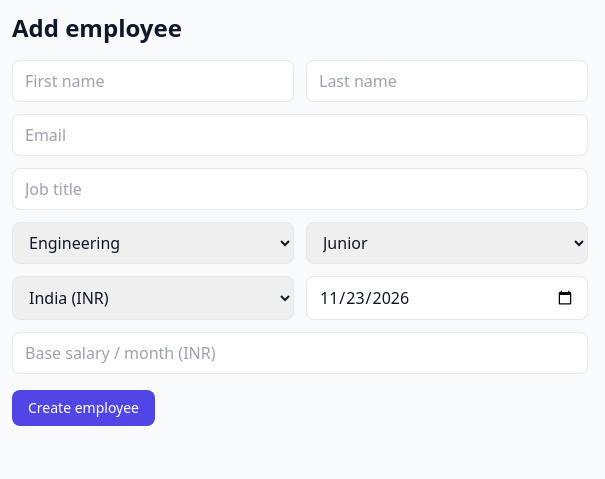
Test: AddEmployee page › requires a whole positive salary
The image size is (605, 479).
Type "Asha" into the field labelled "First name" at (153, 81), box [12,60,294,102]
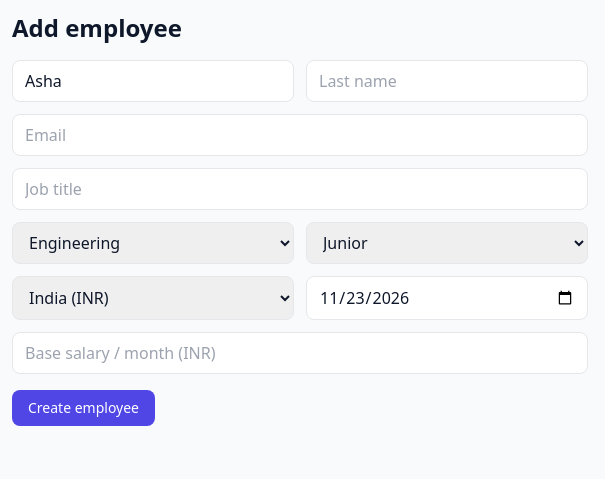
Type "Verma" into the field labelled "Last name" at (447, 81), box [306,60,588,102]
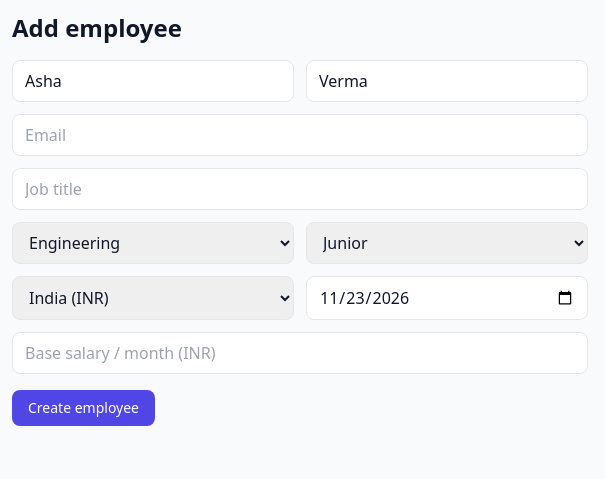
Type "asha@acme.example" into the field labelled "Email" at (300, 135), box [12,114,588,156]
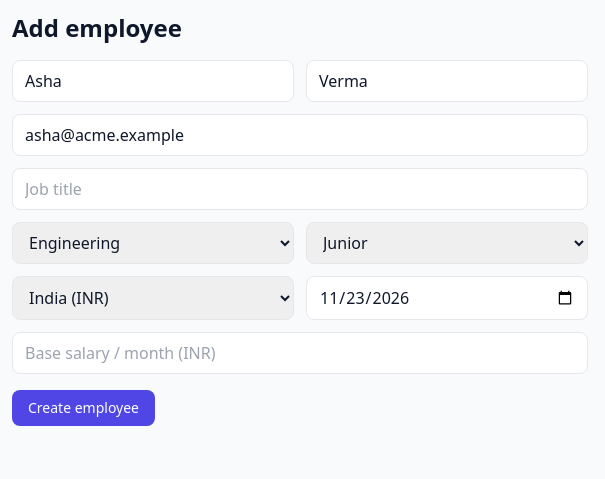
Type "Engineer" into the field labelled "Job title" at (300, 189), box [12,168,588,210]
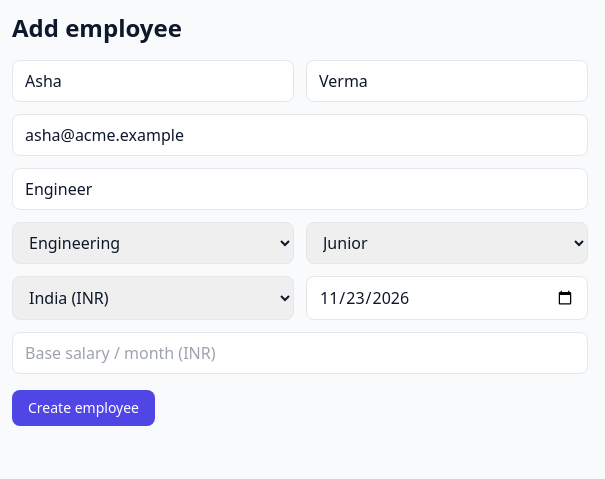
Type "0" into the number field labelled "Base salary" at (300, 353), box [12,332,588,374]
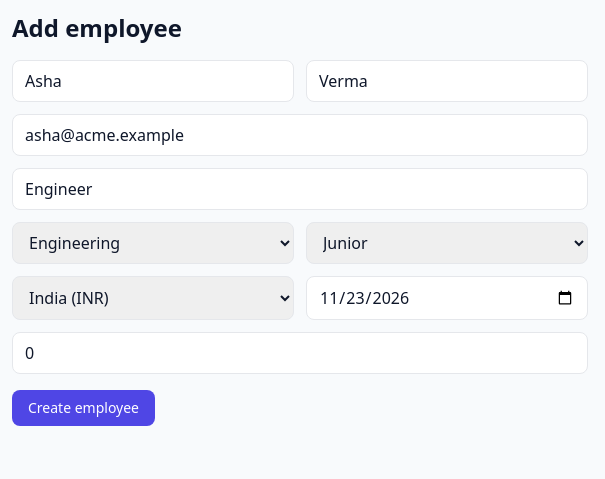
Click the button "Create employee" at (84, 408), box [12,390,155,426]
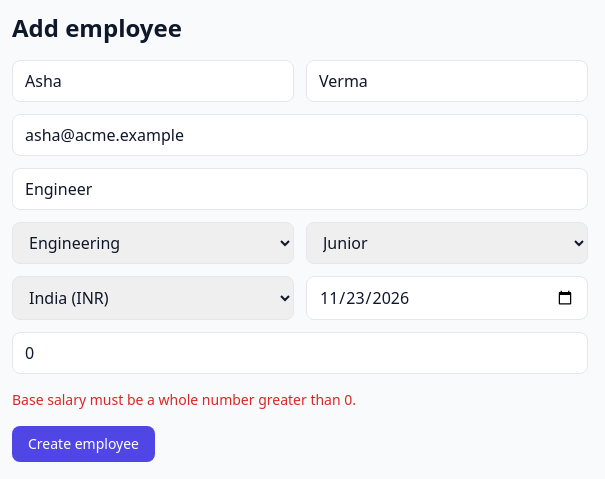
expect the text "Base salary must be a whole number greater than 0." is shown: met, box [12,390,356,409]
